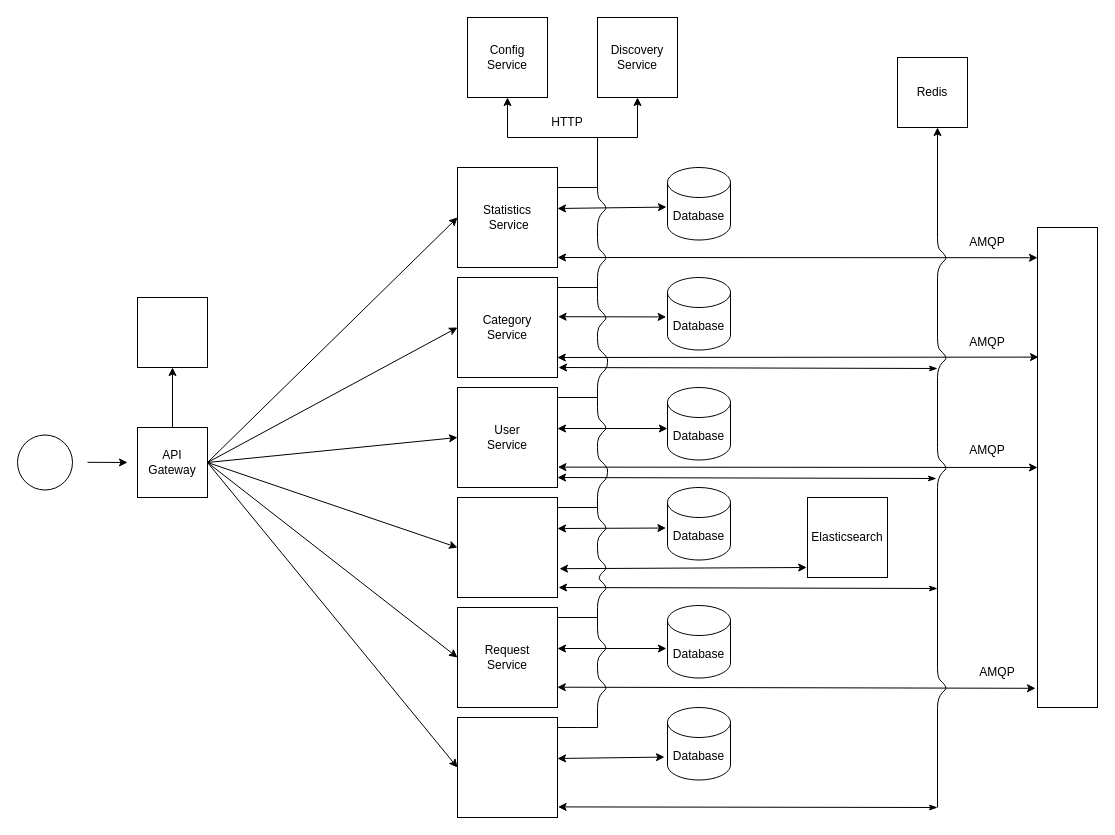
Some shapes in this 1115 by 835 pixel diagram are drawn without their labels. The shapes that lost their labels are listed below. From the top down, each one's centre as x and y in pixels, then its label:
(x=172, y=332): Keycloak
(x=44, y=462): Client
(x=1067, y=467): Kafka
(x=507, y=547): Event Service
(x=507, y=767): Compilation Service
